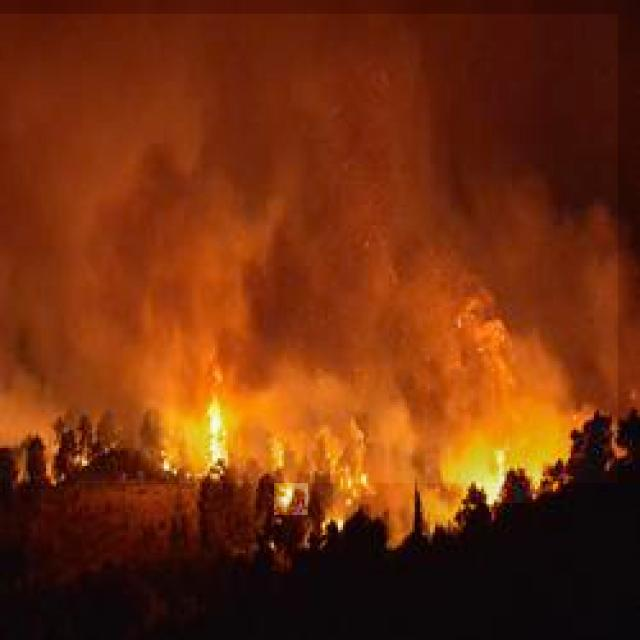Fire: (196, 391, 254, 483), (476, 452, 536, 503), (274, 479, 308, 515)
Smoke: (0, 14, 618, 483)
